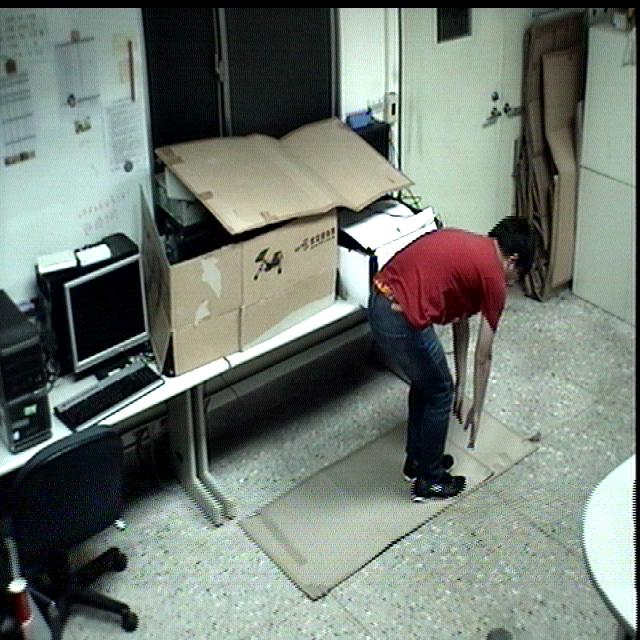bend: (361, 211, 543, 506)
